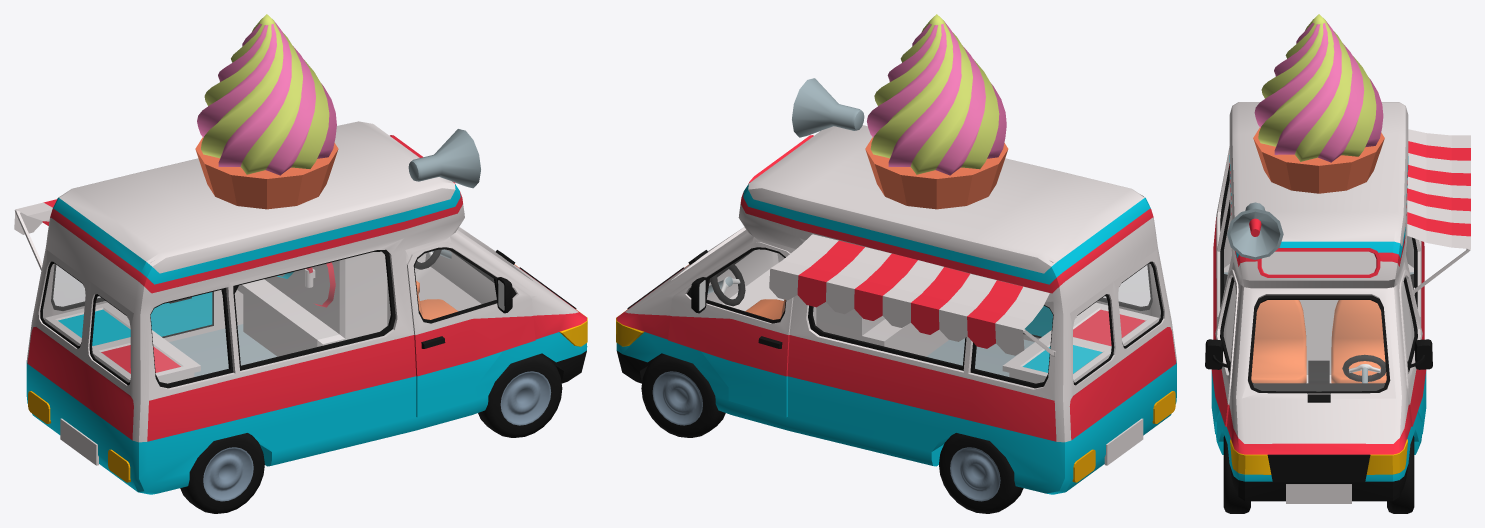
File: car_2.glb
3 renders of one model, left to right at view 1: azimuth 30°, elevation 25°; view 2: azimuth 150°, elevation 25°; view 3: azimuth 270°, elevation 25°, orthographic. The views are drawn at different scales.
Visible parts, largest first — view 1: Transport2; view 2: Transport2; view 3: Transport2.
Boxes of the visible parts, x1,y1,x2,y2 form: Transport2: [14, 14, 587, 513]; Transport2: [616, 14, 1176, 513]; Transport2: [1205, 14, 1470, 513].
Size of what is drawn, in the model's own units: 2.81 by 2.5 by 1.49.
2 materials, 2 textured.
